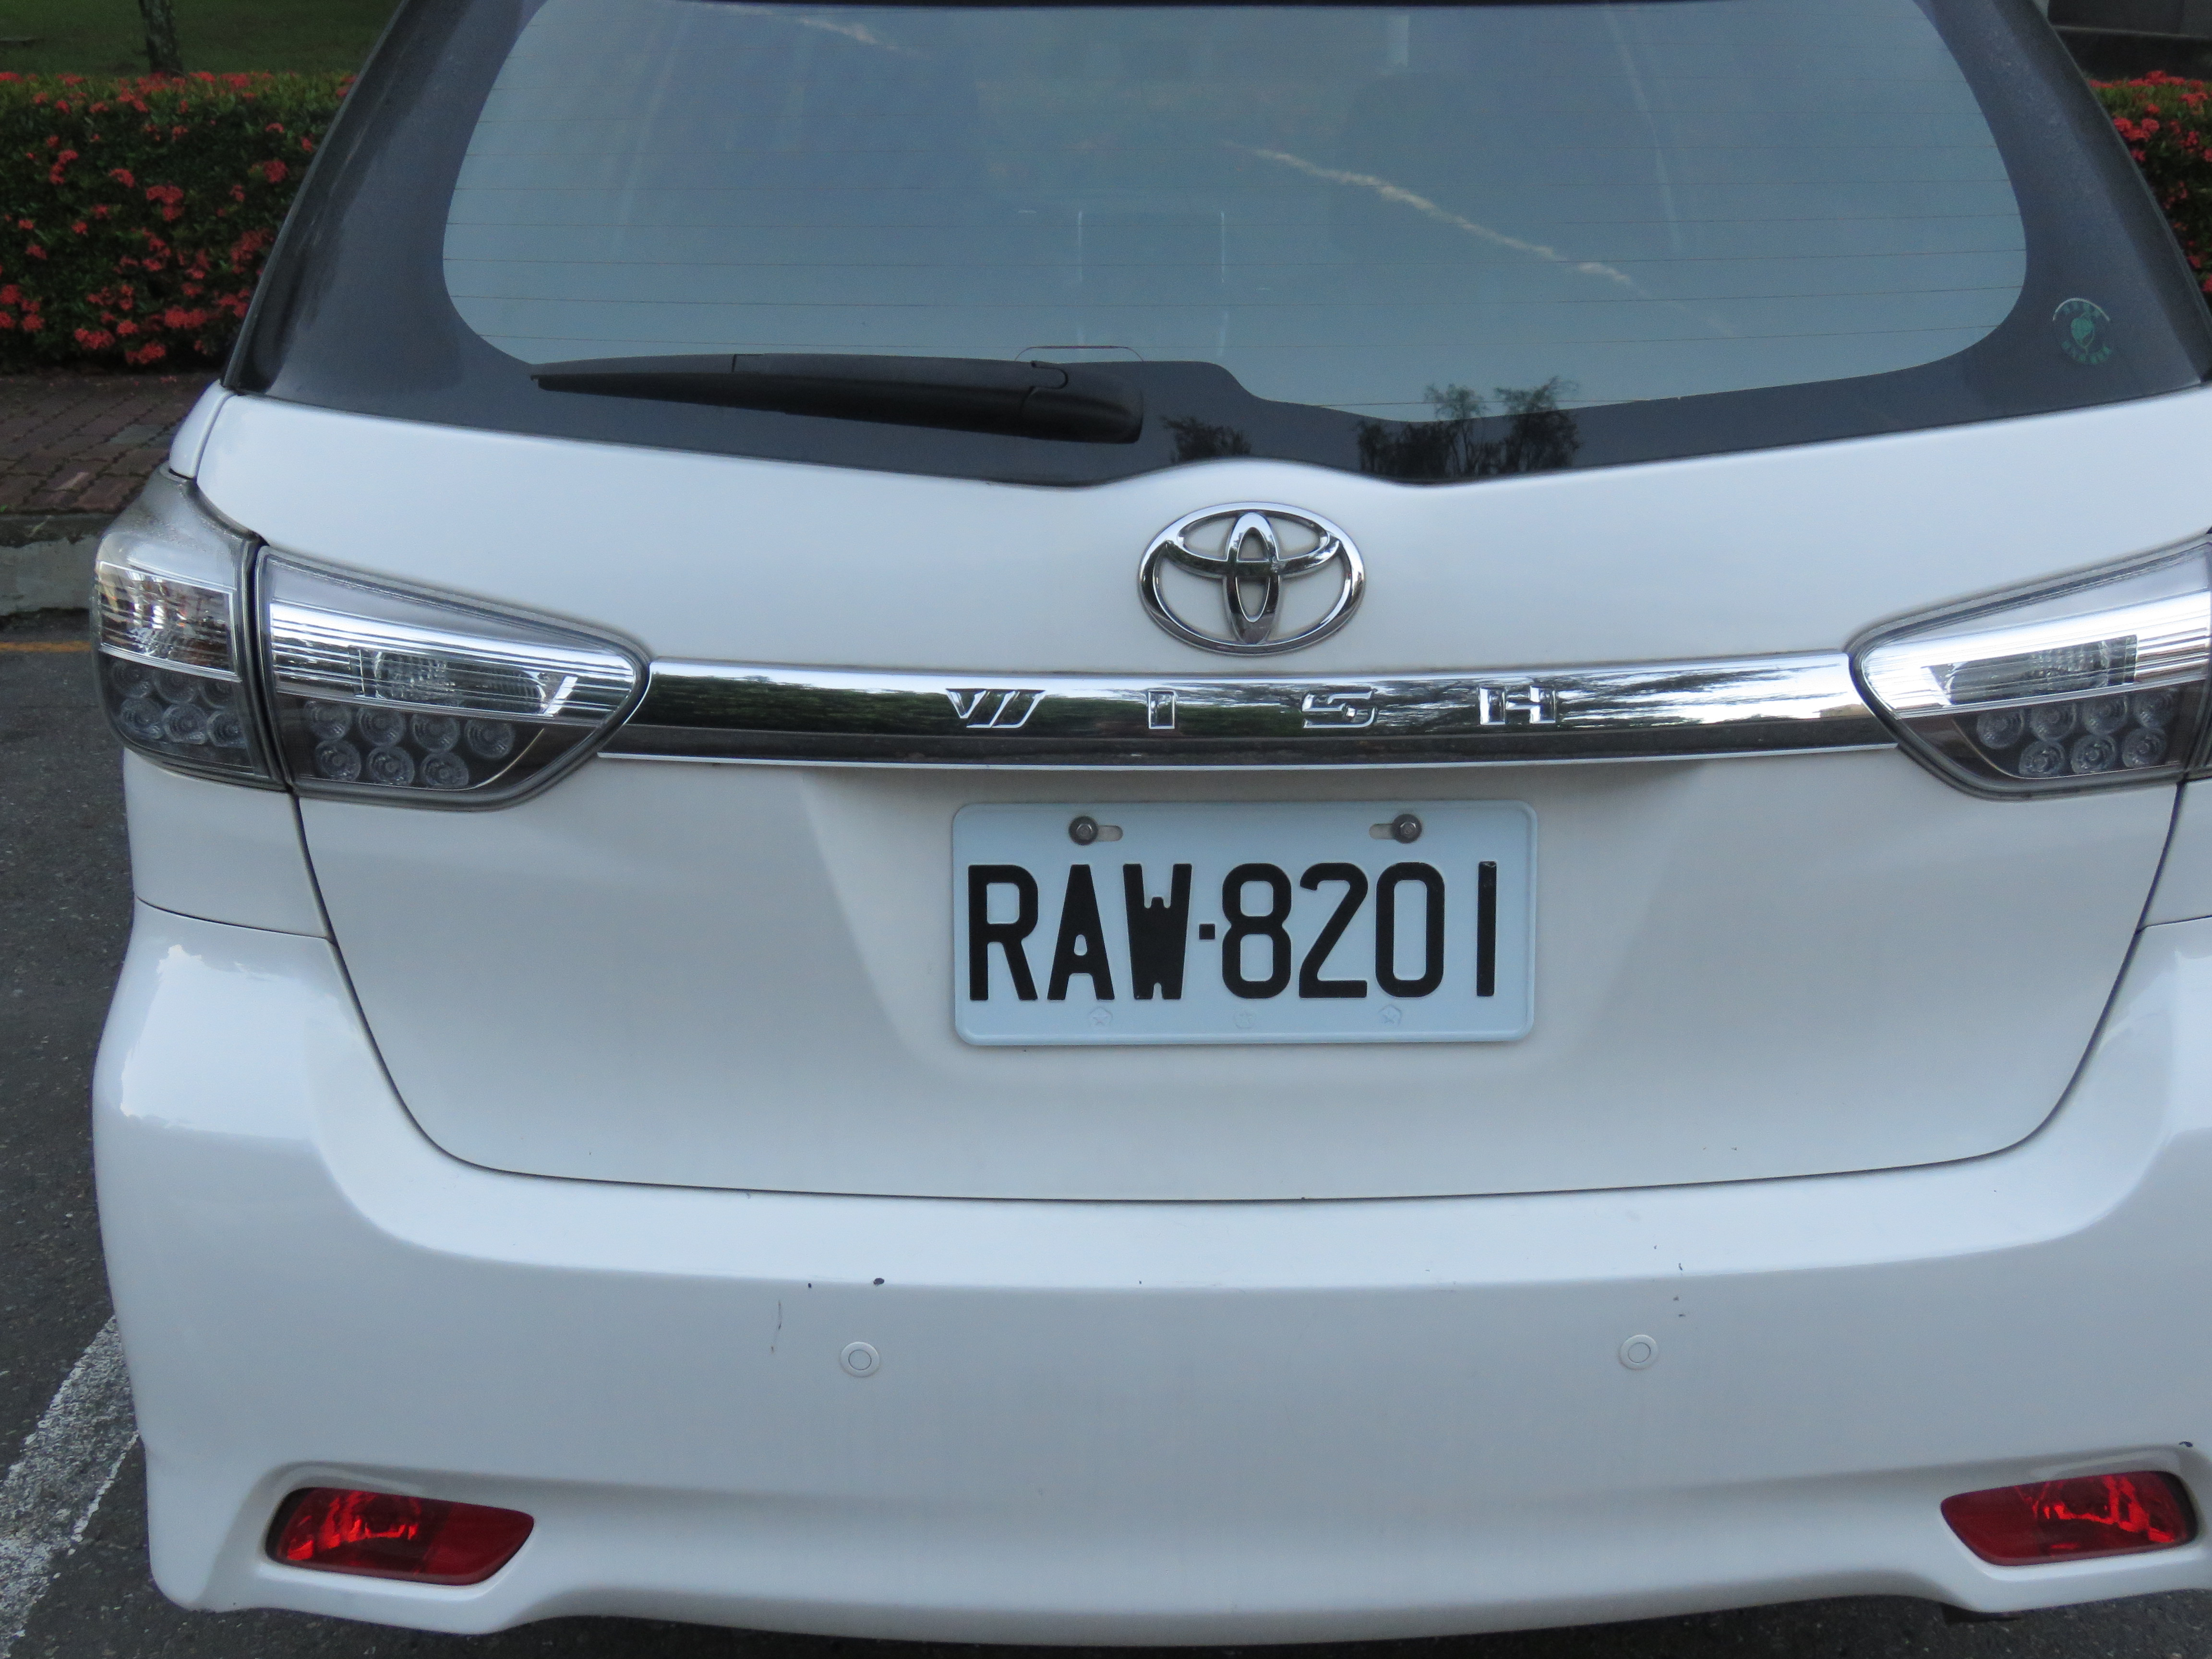car: (84, 0, 2209, 1656)
car_card: (942, 788, 1533, 1058)
